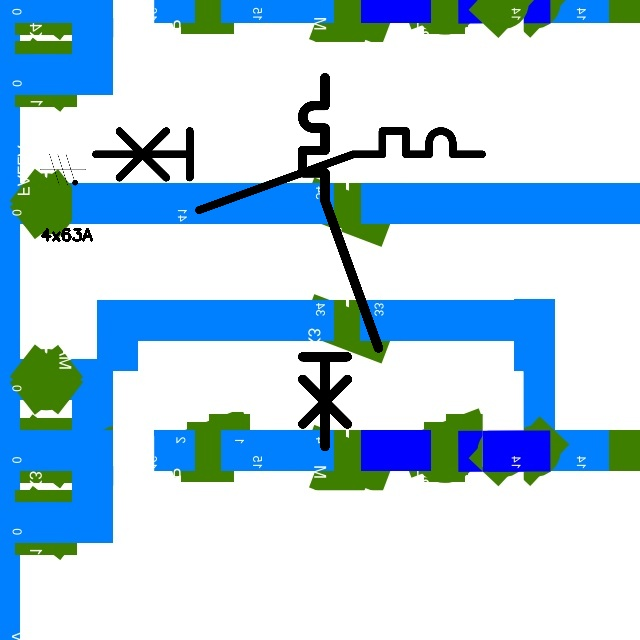interruptor_termomagnetico: (85, 121, 491, 220), (293, 68, 388, 456)
